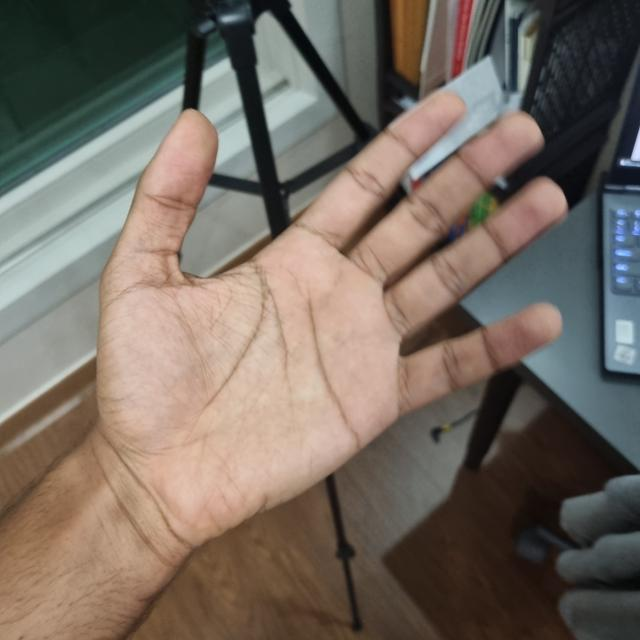Paper: (94, 91, 562, 535)
